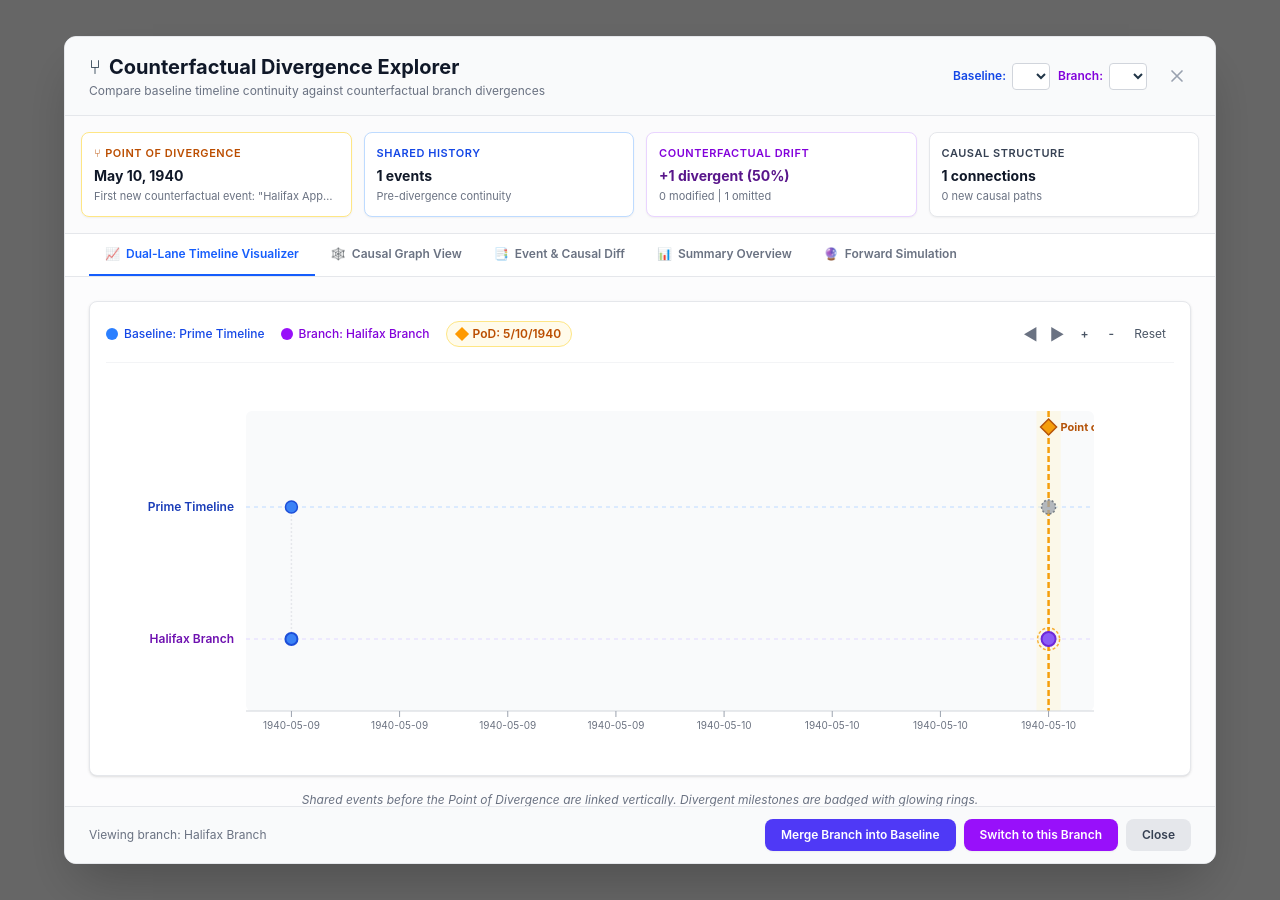
Test case: BranchComparisonModal › opens the branch merge resolver from the footer
What coordinates should you click on to do the following:
click the button "Merge Branch into Baseline"
I would click on:
 (860, 835)
Its box is [765,819,956,851].
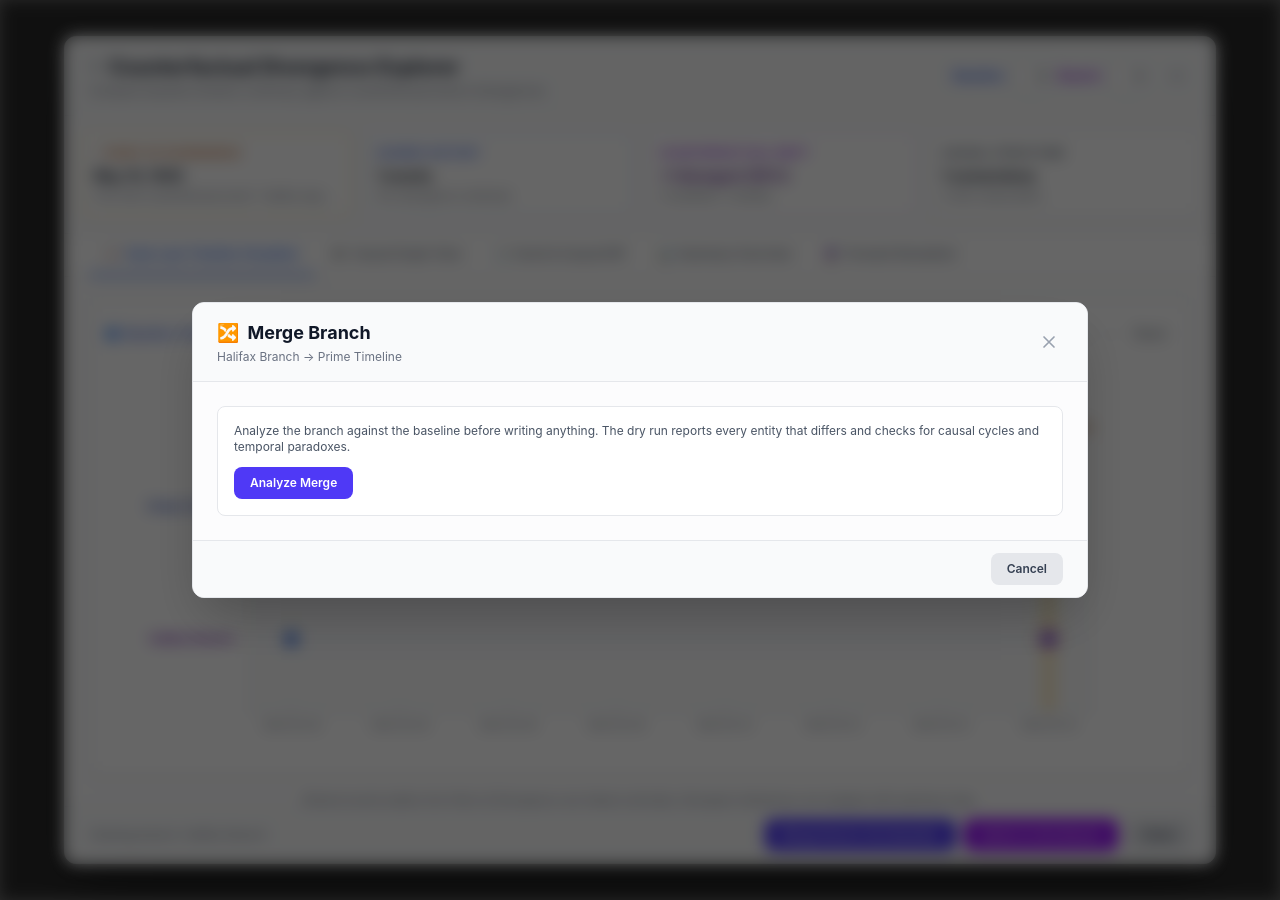
Now the heading "🔀 Merge Branch" is shown, box [217,322,371,343]
Now the button "Analyze Merge" is shown, box [234,467,353,499]
